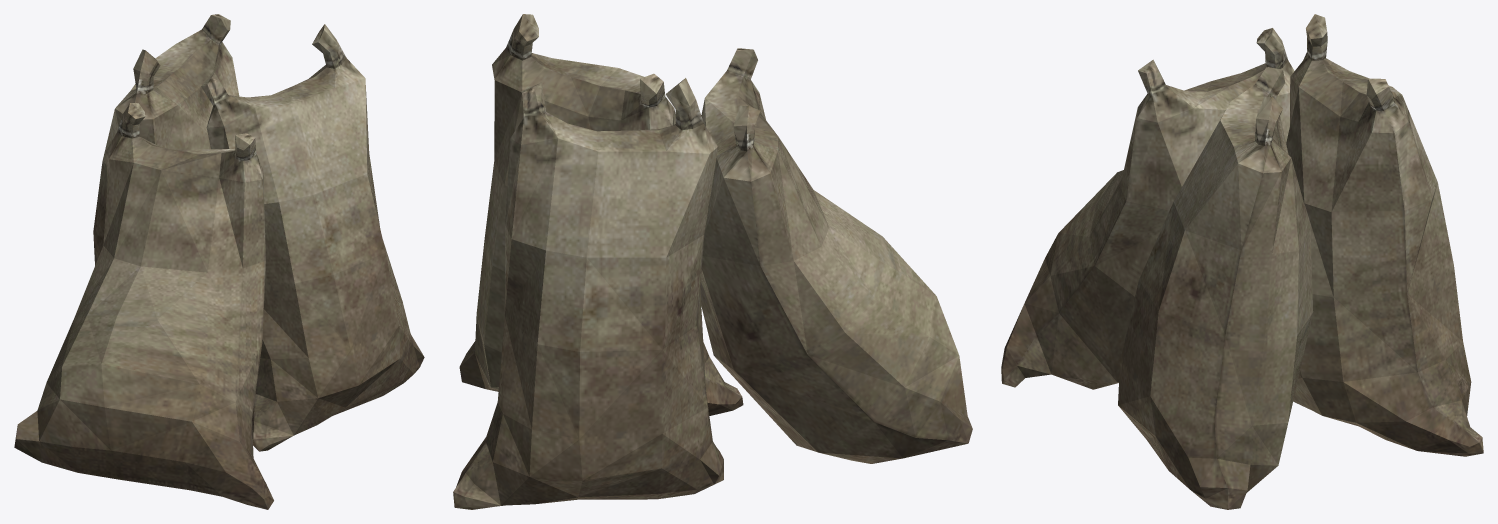
File: SandBag.fbx
The picture shows the model from 3 angles, left to right: view 1: azimuth 30°, elevation 25°; view 2: azimuth 150°, elevation 25°; view 3: azimuth 270°, elevation 25°; orthographic projection. The views are drawn at different scales.
Parts seen in each view (by area): view 1: 3D_ShaDai.mo; view 2: 3D_ShaDai.mo; view 3: 3D_ShaDai.mo.
Part boxes in pixels (x1,y1,x2,y2): 3D_ShaDai.mo: [14, 14, 424, 509]; 3D_ShaDai.mo: [453, 14, 972, 509]; 3D_ShaDai.mo: [1001, 14, 1483, 509].
Size of the model in its own units: 18.5 by 15.39 by 16.89.
